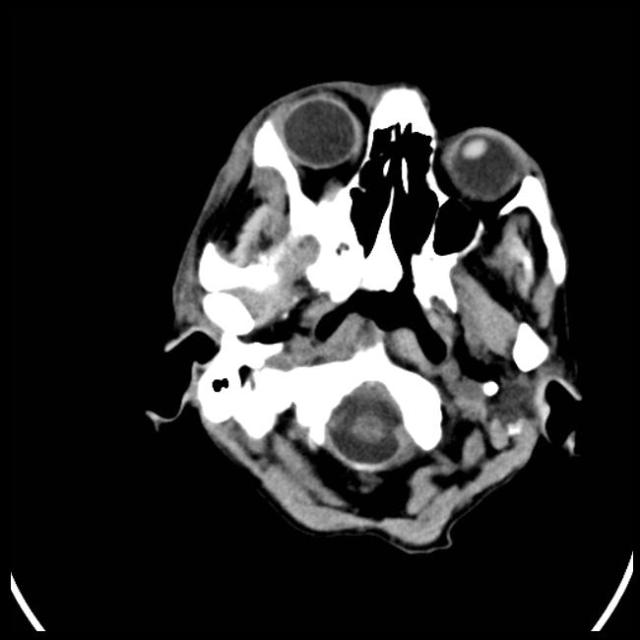lesion: (143, 76, 588, 556)
